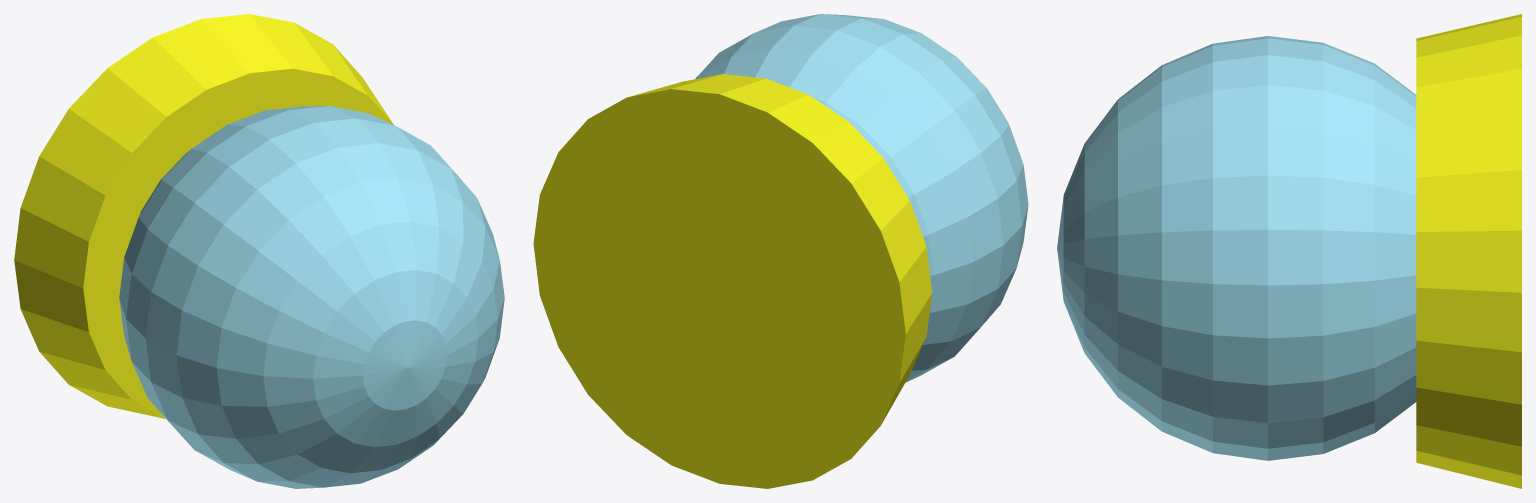
The picture shows the model from 3 angles, left to right: view 1: azimuth 30°, elevation 25°; view 2: azimuth 150°, elevation 25°; view 3: azimuth 270°, elevation 25°; orthographic projection. The views are drawn at different scales.
Visible parts, largest first — view 1: crystal ball; view 2: crystal ball; view 3: crystal ball.
Boxes of the visible parts, x1,y1,x2,y2 form: crystal ball: (14, 14, 504, 488); crystal ball: (533, 14, 1028, 488); crystal ball: (1057, 14, 1521, 488).
Size of the model in its own units: 29 by 29 by 28.27.
